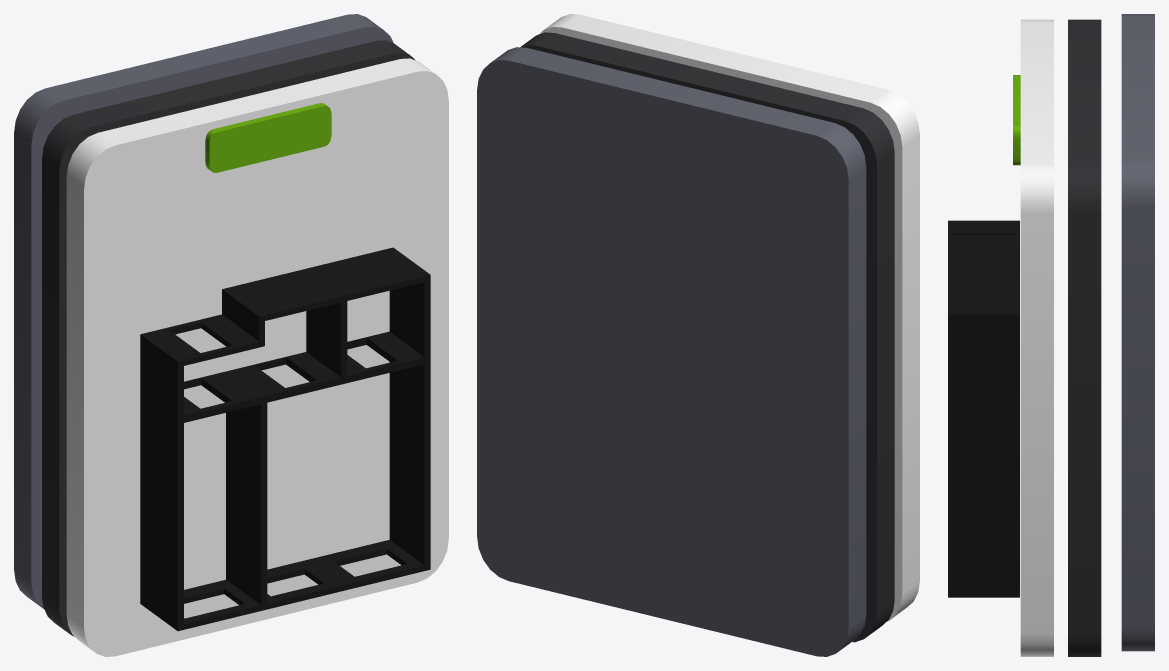
The model's file is pawn.obj.
3 views of the same model, side by side, from view 1: azimuth 30°, elevation 25°; view 2: azimuth 150°, elevation 25°; view 3: azimuth 270°, elevation 25° (orthographic). The views are drawn at different scales.
Parts seen in each view (by area): view 1: Cube.002, Cube, Cube.001; view 2: Cube, Cube.001, Cube.002; view 3: Cube.002, Cube, Cube.001.
Boxes of the visible parts, x1,y1,x2,y2 form: Cube.002: [66, 58, 448, 656]; Cube: [14, 14, 393, 608]; Cube.001: [42, 40, 415, 636]; Cube: [477, 47, 866, 656]; Cube.001: [520, 32, 894, 642]; Cube.002: [539, 14, 919, 621]; Cube.002: [948, 19, 1053, 656]; Cube: [1121, 14, 1154, 651]; Cube.001: [1068, 19, 1101, 656].
Bounding box in the file's own units: 1.86 × 2.52 × 0.9512.
